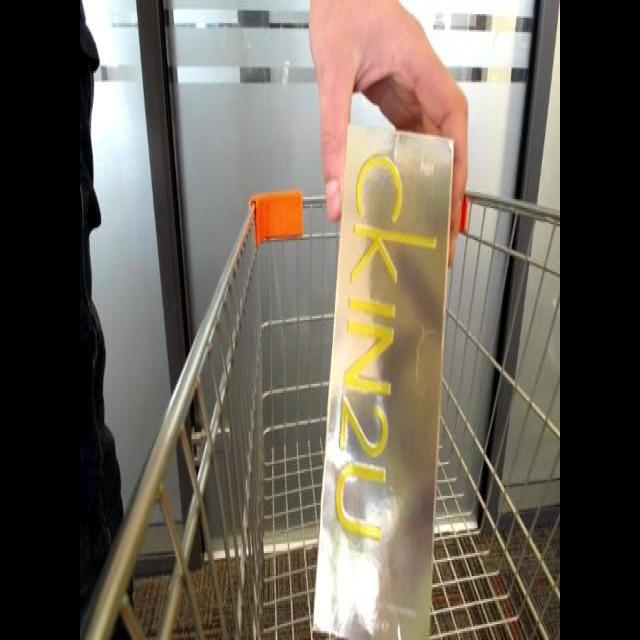Calvin Klein: (306, 119, 462, 635)
